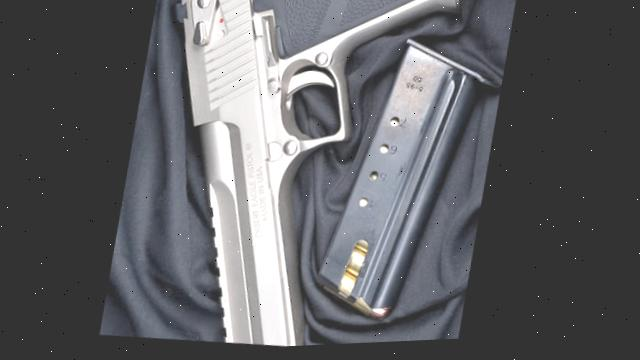pistol: (125, 0, 484, 355)
